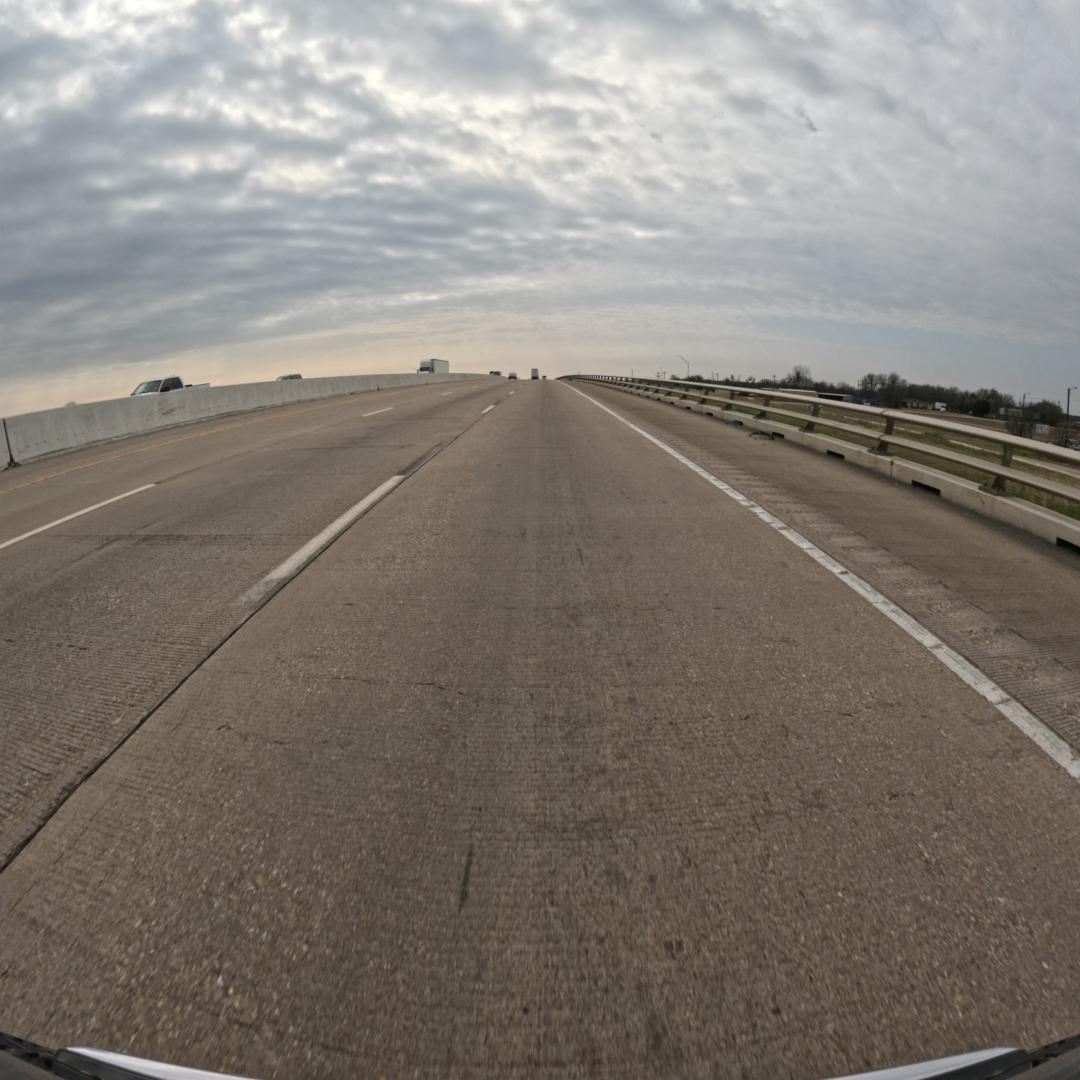lane0: (0, 382, 1080, 1076)
lane1: (0, 385, 510, 870)
